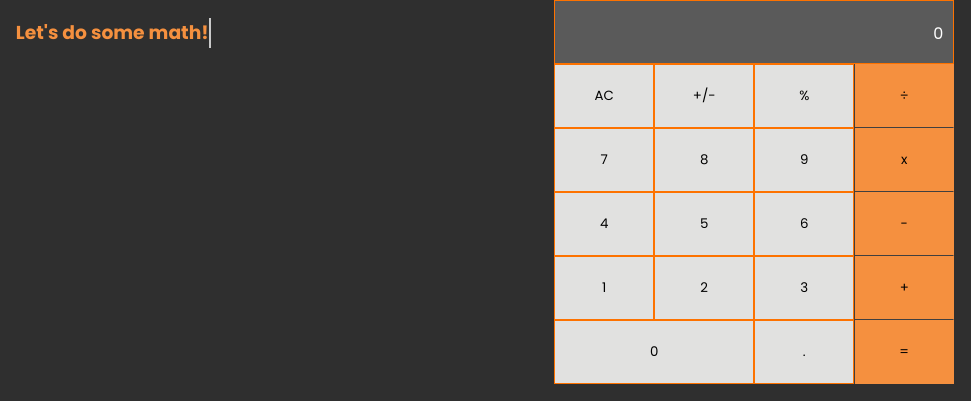
Test case: Ther user tries devide by 0
Click the button "2". click: (704,288)
box: [654,256,754,320]
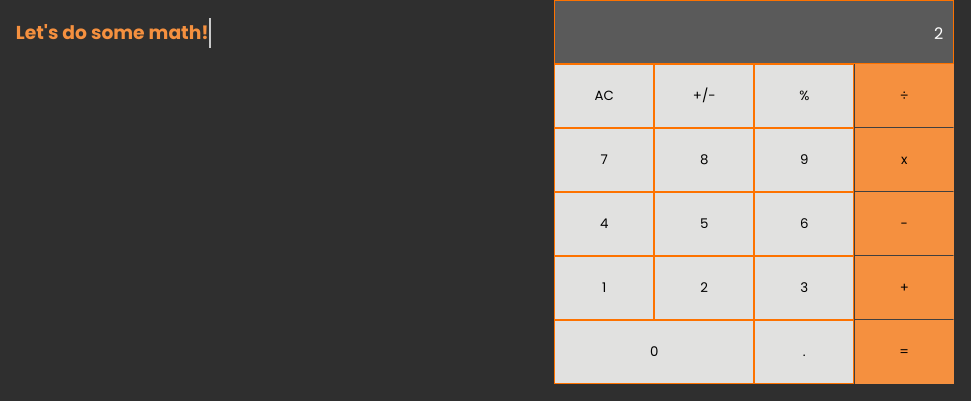
Result: the text with class "calc-section" reads "2" at [934,22,943,45]
Click the button "÷". click: (904,96)
box: [854,64,954,128]
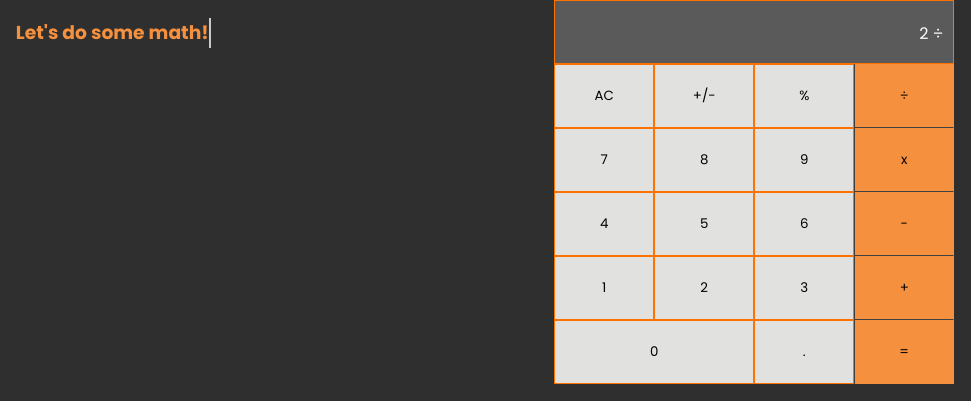
Result: the text with class "calc-section" reads "2 ÷" at [554,0,954,64]
Click the button "0". click: (654,352)
box: [554,320,754,384]
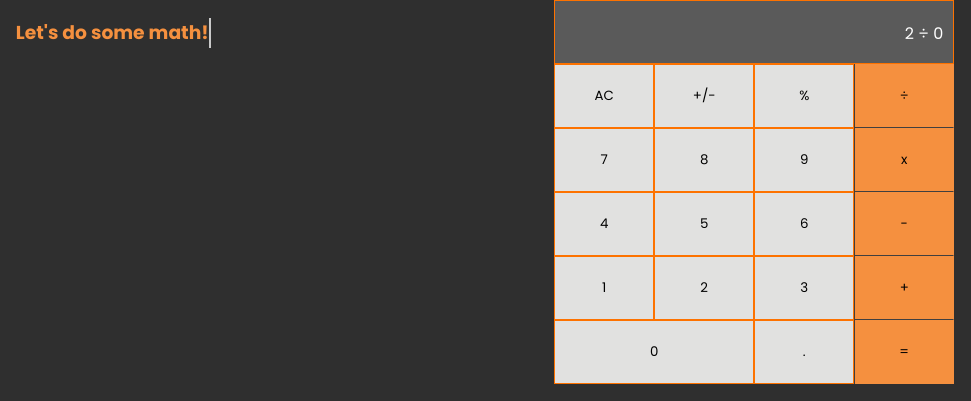
Result: the text with class "calc-section" reads "2 ÷ 0" at [554,0,954,64]
Click the button "=". click: (904,352)
box: [854,320,954,384]
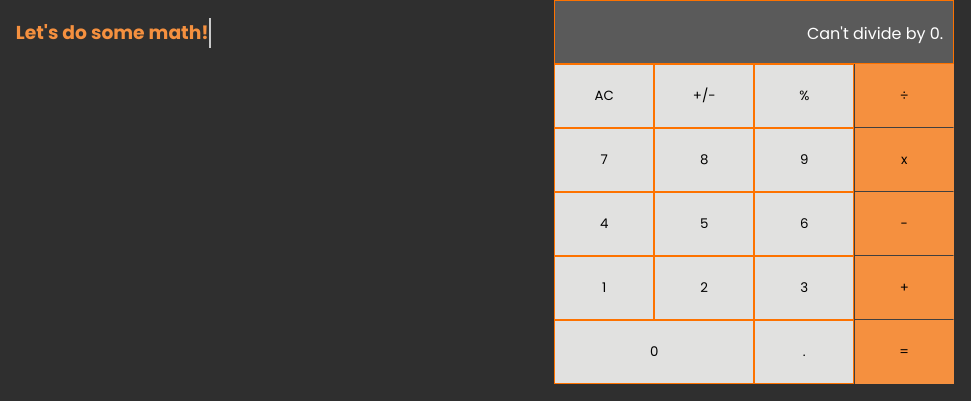
Result: the text with class "calc-section" reads "Can't divide by 0." at [807,22,943,45]
